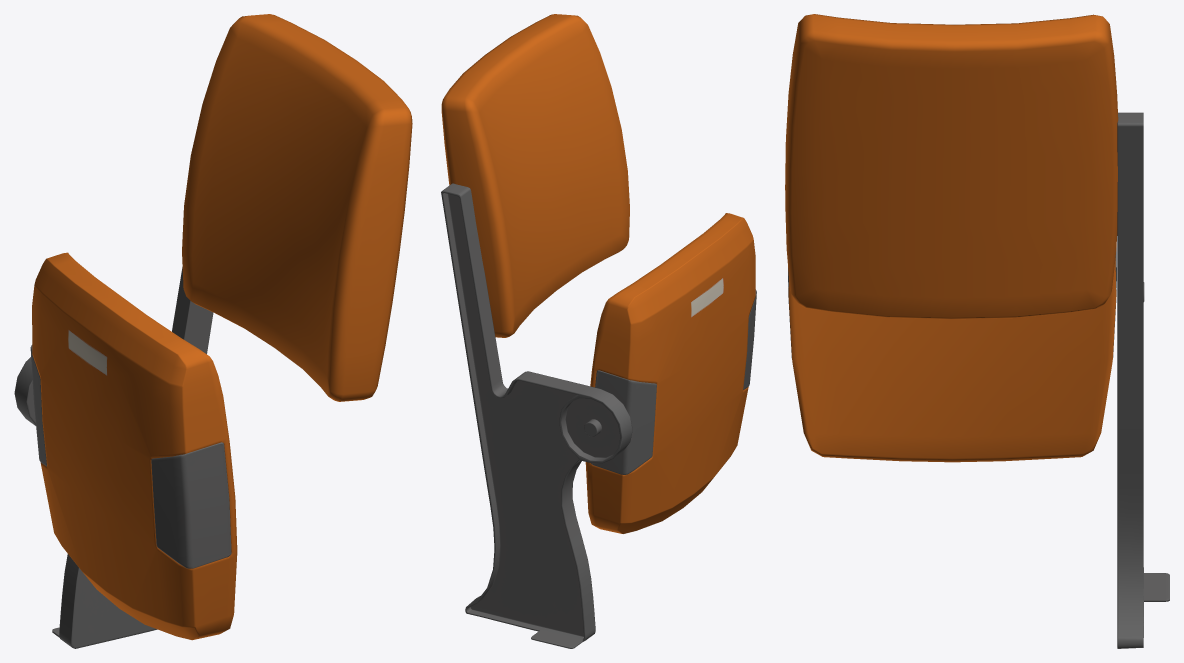
The model's file is SM_070_Chair_2_R22.fbx.
The picture shows the model from 3 angles, left to right: view 1: azimuth 30°, elevation 25°; view 2: azimuth 150°, elevation 25°; view 3: azimuth 270°, elevation 25°; orthographic projection. The views are drawn at different scales.
Visible parts, largest first — view 1: SM_070_Chair_2_R22; view 2: SM_070_Chair_2_R22; view 3: SM_070_Chair_2_R22.
Part boxes in pixels (bbox=[...]): SM_070_Chair_2_R22: bbox=[14, 14, 412, 648]; SM_070_Chair_2_R22: bbox=[441, 14, 756, 648]; SM_070_Chair_2_R22: bbox=[785, 14, 1169, 648].
Size of the model in its own units: 46.88 by 53.51 by 99.41.
Materials: 1 (1 with a texture image).
